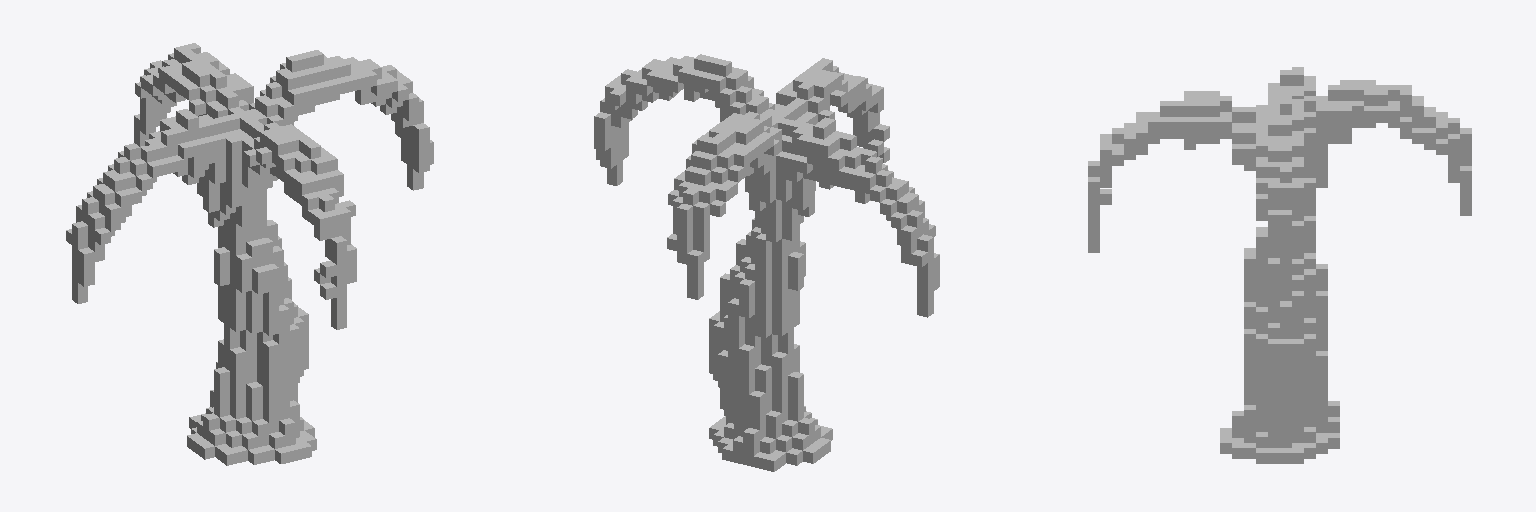
The model's file is tree3.obj.
3 views of the same model, side by side, from view 1: azimuth 30°, elevation 25°; view 2: azimuth 150°, elevation 25°; view 3: azimuth 270°, elevation 25° (orthographic).
Parts seen in each view (by area): view 1: object 1; view 2: object 1; view 3: object 1.
Part boxes in pixels (x1,y1,x2,y2): object 1: (66, 43, 433, 465); object 1: (594, 54, 939, 471); object 1: (1088, 67, 1471, 463).
Bounding box in the file's own units: 3.3 × 3.4 × 3.2.